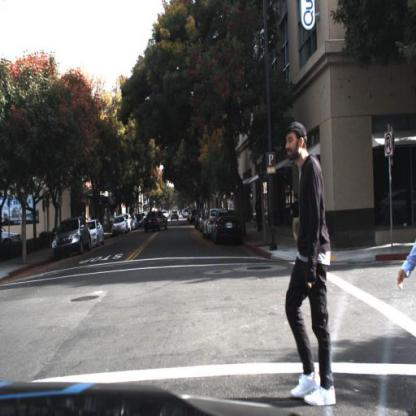car: (54, 213, 93, 259), (142, 210, 172, 237), (1, 223, 22, 252), (86, 219, 107, 248), (204, 210, 217, 242), (113, 214, 129, 235), (170, 208, 181, 223)
pedestrian: (274, 120, 339, 408), (278, 120, 338, 410), (395, 217, 416, 302), (292, 193, 310, 257), (254, 195, 267, 239), (254, 194, 266, 233)
